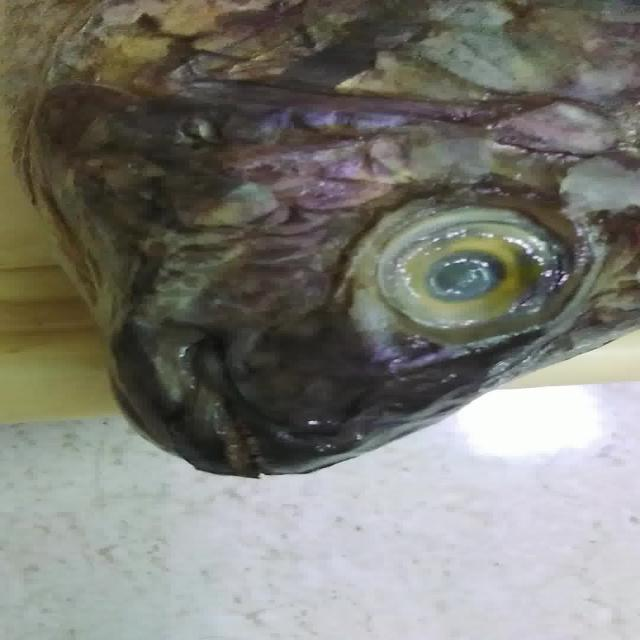Non-Fresh: (357, 173, 575, 357)
